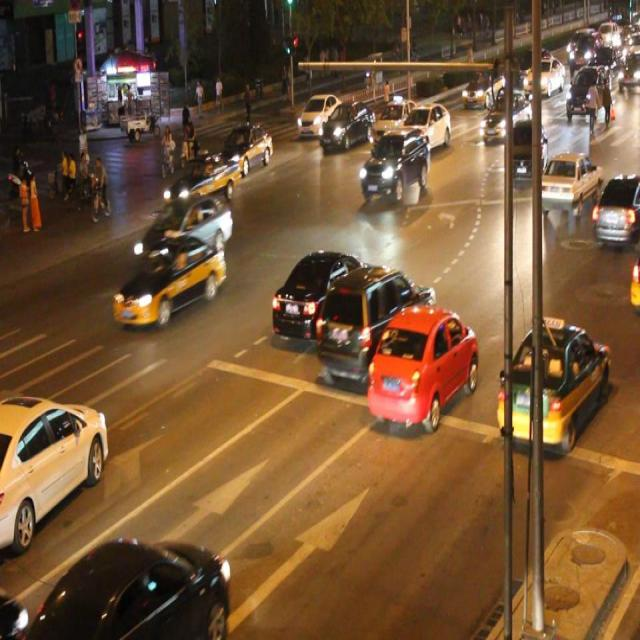car: (32, 537, 230, 640), (1, 394, 108, 545), (498, 321, 608, 442), (366, 303, 476, 422), (315, 263, 432, 371), (112, 233, 226, 325), (270, 249, 374, 340), (133, 194, 232, 268), (357, 129, 428, 196), (163, 154, 239, 207), (534, 152, 601, 210), (590, 174, 640, 243), (319, 99, 373, 148), (216, 125, 272, 172), (505, 116, 546, 177), (399, 103, 449, 151), (371, 99, 419, 145), (480, 91, 524, 138), (297, 93, 344, 136)
